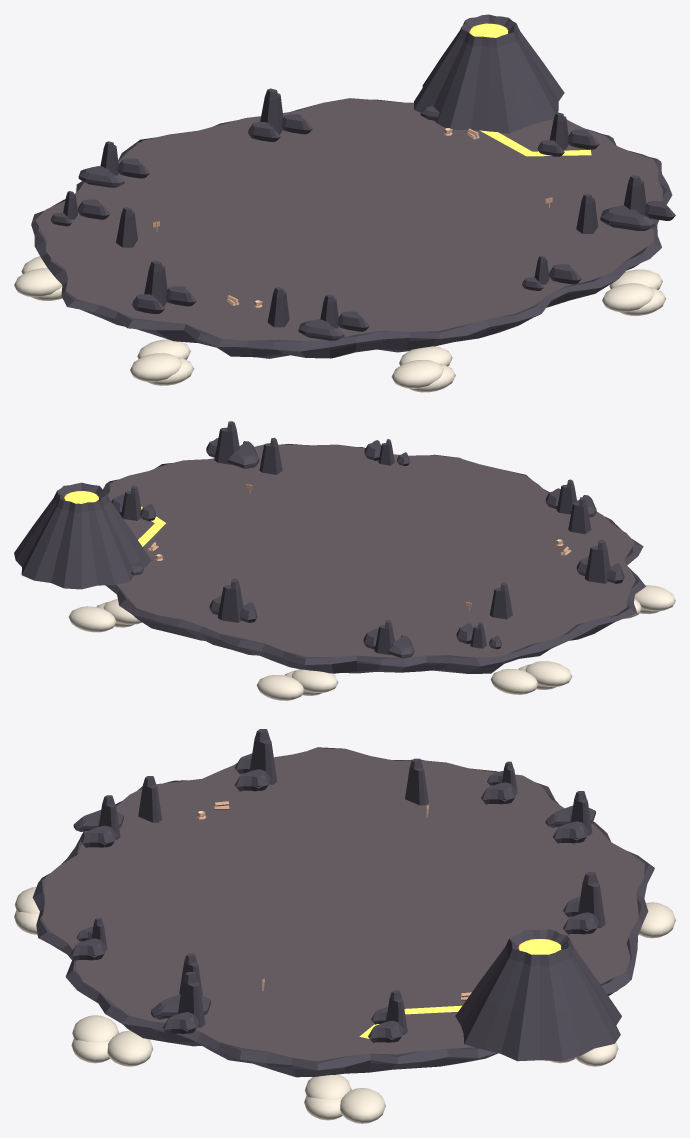
The model's file is volcano.glb.
3 views of the same model, one above another, from view 1: azimuth 30°, elevation 25°; view 2: azimuth 150°, elevation 25°; view 3: azimuth 270°, elevation 25° (orthographic). The views are drawn at different scales.
Visible parts, largest first — view 1: Surface_volcano.006, Scenery_volcano.006, Water_volcano.006; view 2: Surface_volcano.006, Scenery_volcano.006, Water_volcano.006; view 3: Surface_volcano.006, Scenery_volcano.006, Water_volcano.006.
Part boxes in pixels (x1,y1,x2,y2): Surface_volcano.006: [31, 98, 672, 358]; Scenery_volcano.006: [14, 14, 675, 392]; Water_volcano.006: [469, 23, 591, 156]; Surface_volcano.006: [103, 444, 645, 673]; Scenery_volcano.006: [14, 421, 675, 700]; Water_volcano.006: [64, 491, 165, 546]; Surface_volcano.006: [32, 747, 654, 1077]; Scenery_volcano.006: [14, 729, 675, 1123]; Water_volcano.006: [359, 939, 561, 1038].
Bounding box in the file's own units: 77.07 × 17.31 × 64.53.
